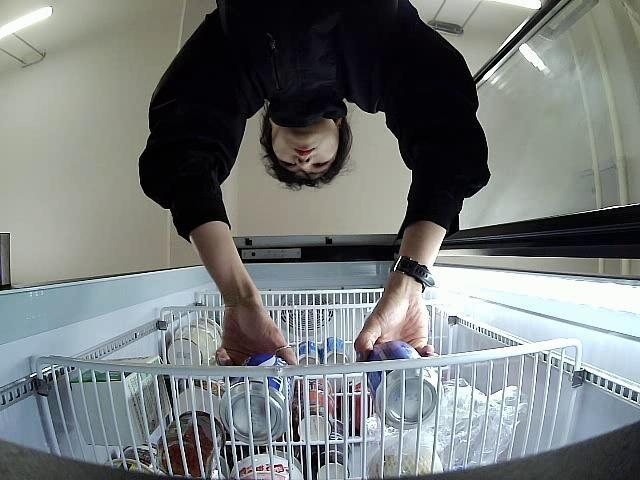13_pocariSweat: (218, 352, 294, 445), (361, 342, 440, 429)
